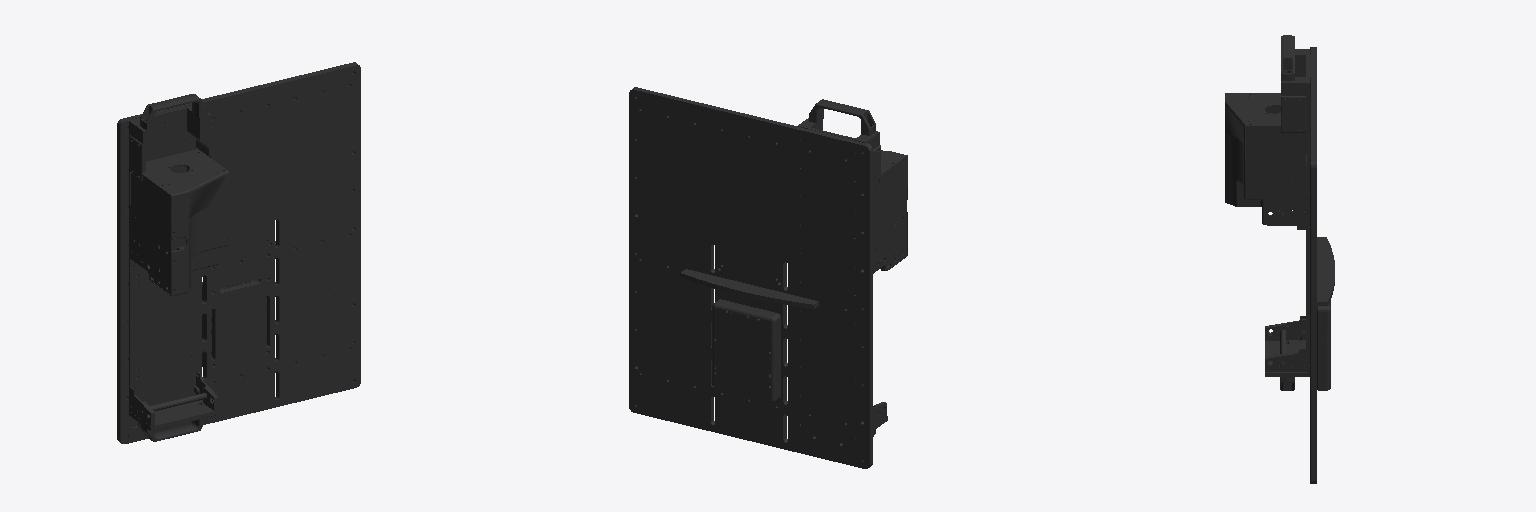
3 renders of one model, left to right at view 1: azimuth 30°, elevation 25°; view 2: azimuth 150°, elevation 25°; view 3: azimuth 270°, elevation 25°, orthographic.
Visible parts, largest first — view 1: /ambf/env/neuro_robot/base_link_base_link; view 2: /ambf/env/neuro_robot/base_link_base_link; view 3: /ambf/env/neuro_robot/base_link_base_link.
Boxes of the visible parts, x1=… form: /ambf/env/neuro_robot/base_link_base_link: x1=117, y1=62, x2=360, y2=443; /ambf/env/neuro_robot/base_link_base_link: x1=629, y1=87, x2=907, y2=468; /ambf/env/neuro_robot/base_link_base_link: x1=1225, y1=35, x2=1334, y2=483.
Size of the model in its own units: 0.53 by 0.7213 by 0.2113.